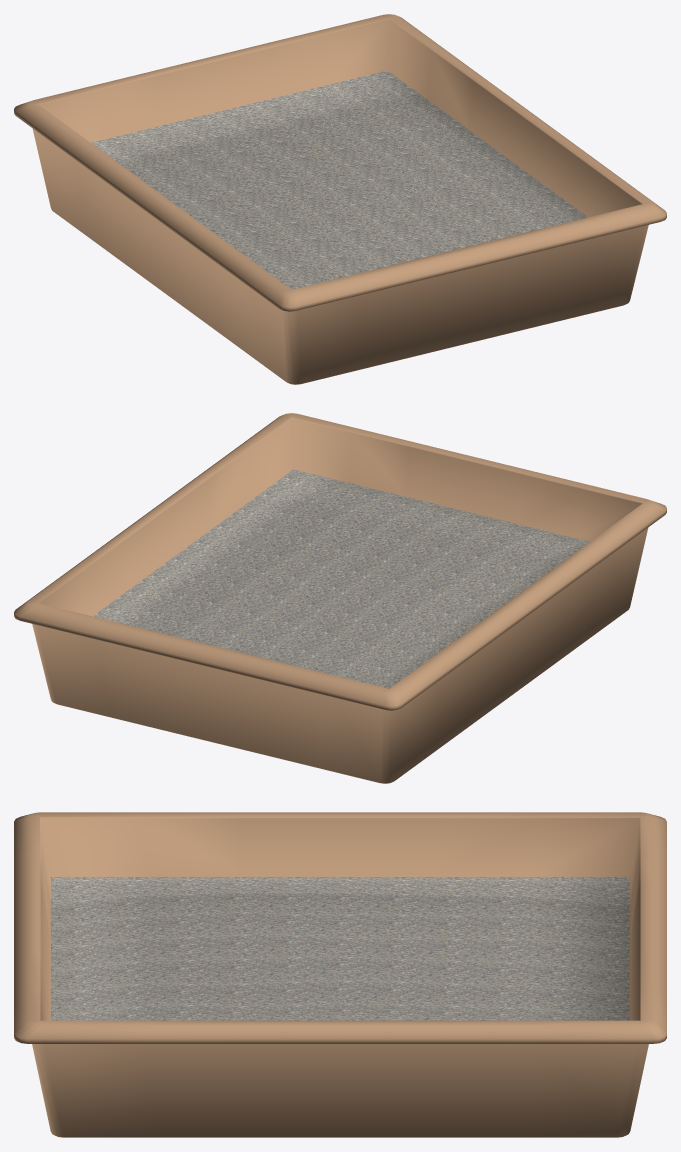
Rendered from LitterBox2.fbx.
3 renders of one model, top to bottom at view 1: azimuth 30°, elevation 25°; view 2: azimuth 150°, elevation 25°; view 3: azimuth 270°, elevation 25°, orthographic. The views are drawn at different scales.
Parts seen in each view (by area): view 1: Litterbox_Lowpoly; view 2: Litterbox_Lowpoly; view 3: Litterbox_Lowpoly.
Boxes of the visible parts, x1=… form: Litterbox_Lowpoly: x1=14, y1=14, x2=666, y2=384; Litterbox_Lowpoly: x1=14, y1=413, x2=666, y2=783; Litterbox_Lowpoly: x1=14, y1=812, x2=666, y2=1137.
Bounding box in the file's own units: 299 × 241 × 61.
Materials: 1 (1 with a texture image).
